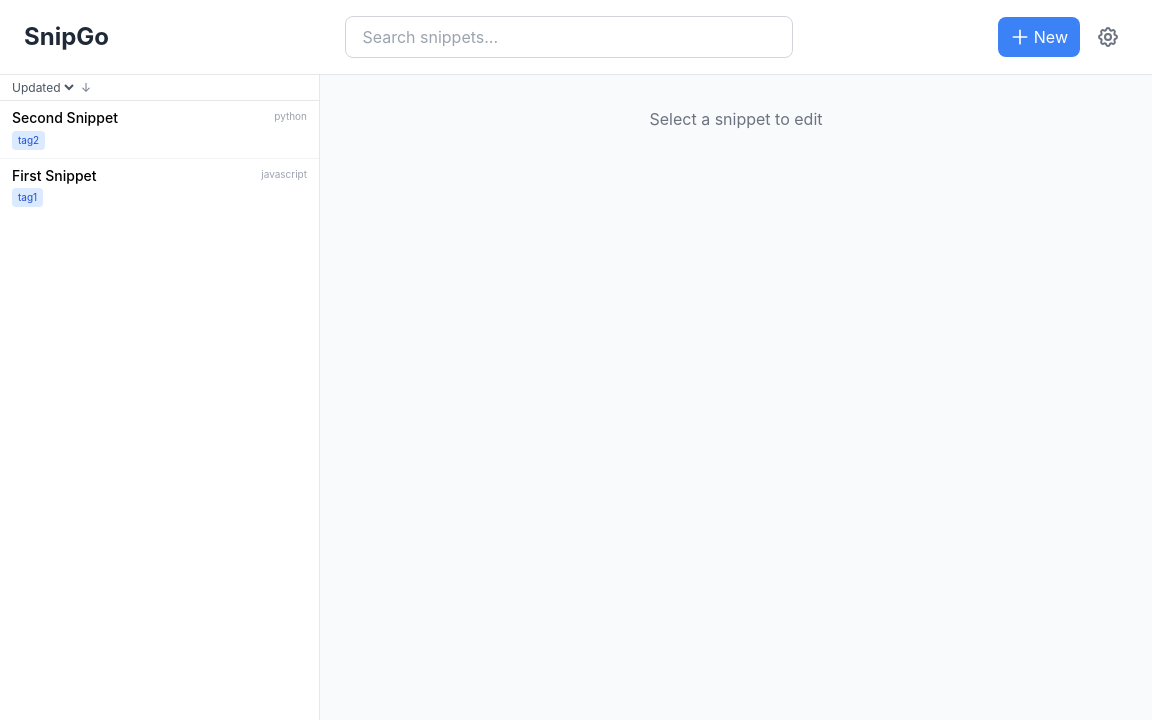
Scenario: App › 저장 확인 다이얼로그 › dirty 상태에서 다른 아이템 선택 시 confirm 다이얼로그를 표시한다
Click the heading "First Snippet" at (54, 175), box [12,166,96,184]
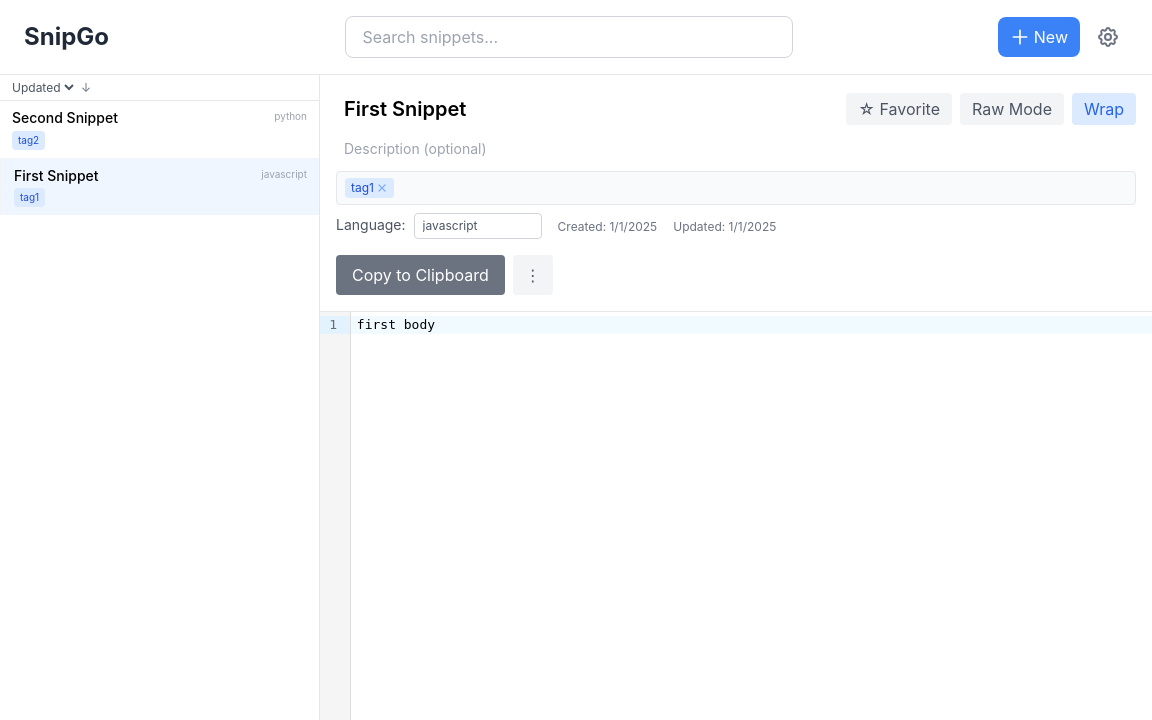
Result: the 1st field showing "First Snippet" is shown
// title 변경 (dirty 상태로 만듦)
Clear the 1st field showing "First Snippet" at (583, 109), box [336,91,830,127]
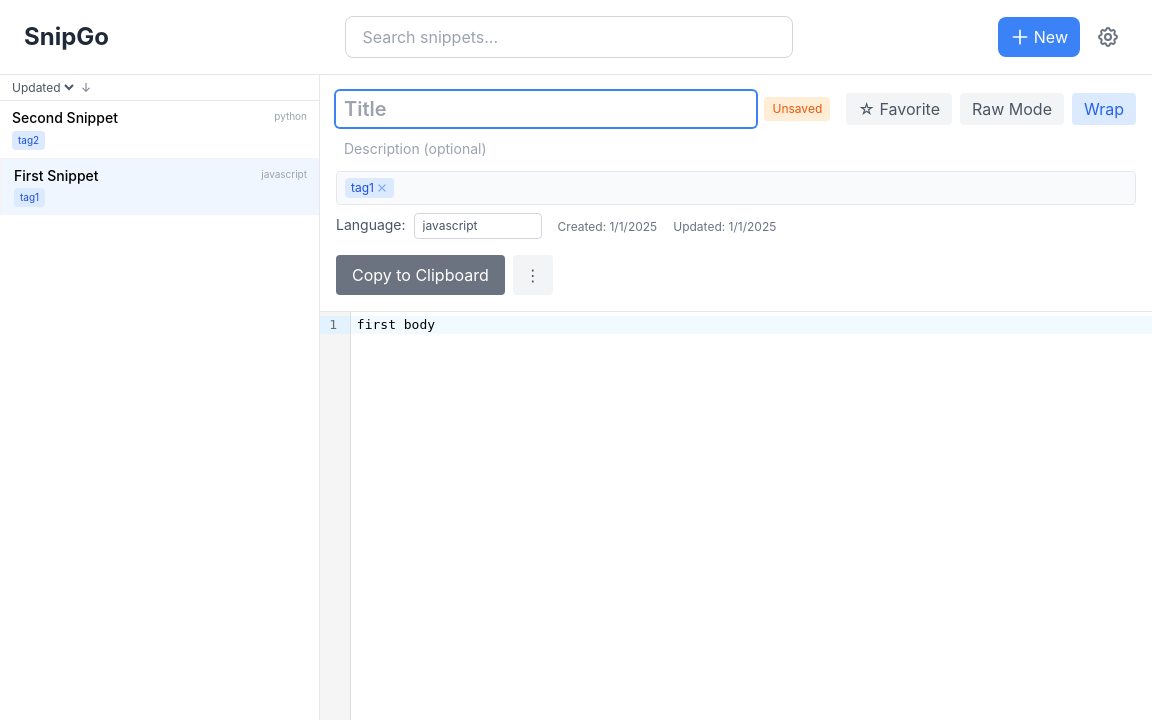
Type "Modified Title" into the field showing "First Snippet" at (546, 109), box [336,91,756,127]
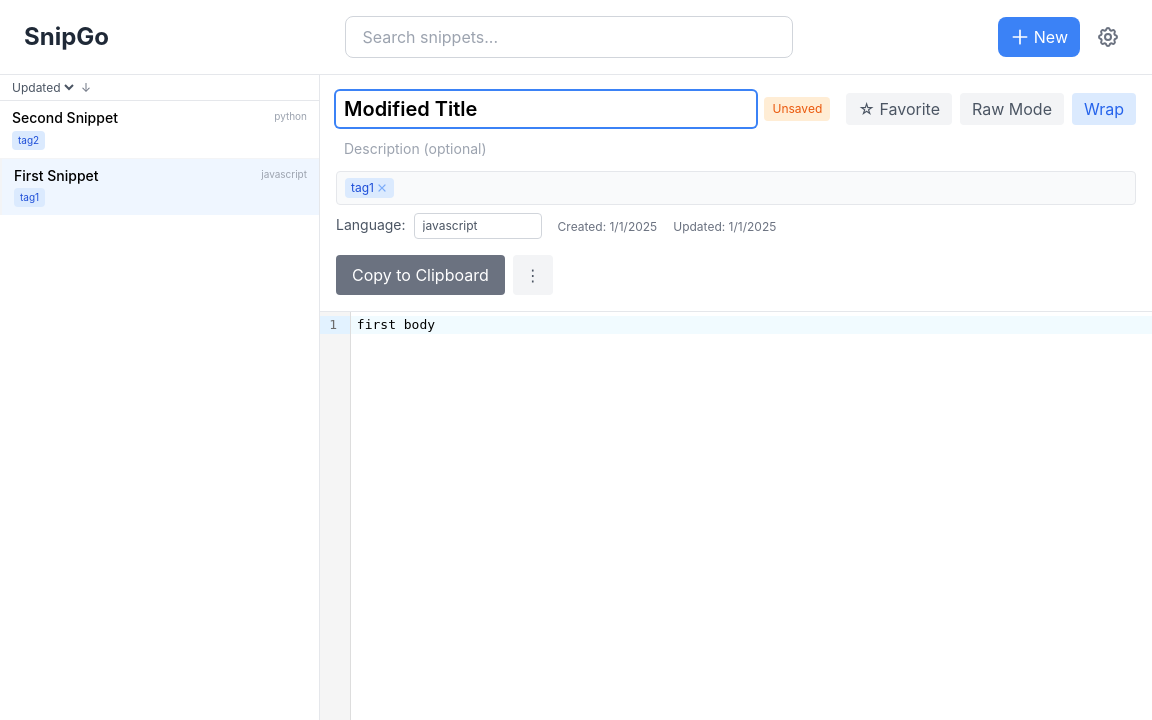
// 두 번째 아이템 선택 시도
Click the heading "Second Snippet" at (65, 118), box [12,109,118,126]
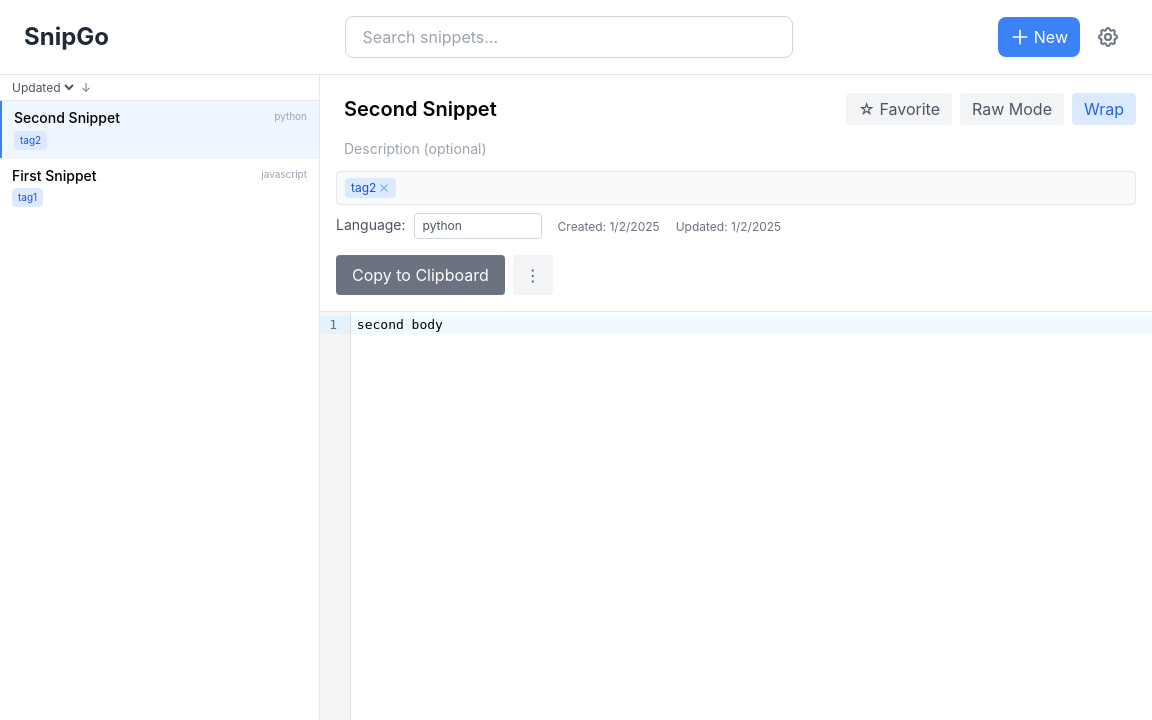
Result: the 1st field showing "Second Snippet" is shown at [336,91,830,127]
